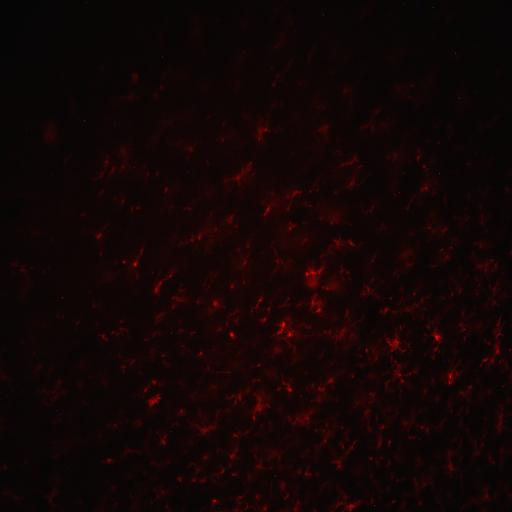microglia: (40, 380, 68, 406), (154, 275, 168, 295), (273, 254, 287, 272), (288, 185, 304, 200), (232, 170, 246, 186), (304, 268, 322, 280), (335, 325, 347, 342), (445, 456, 456, 474), (393, 361, 404, 377), (226, 213, 237, 227), (319, 124, 331, 136), (346, 178, 358, 188), (442, 254, 454, 264), (287, 381, 294, 397), (229, 328, 237, 342), (98, 332, 109, 342), (263, 203, 270, 216), (346, 503, 356, 512), (434, 332, 442, 342), (308, 280, 318, 288), (364, 408, 371, 419), (344, 307, 350, 319), (149, 397, 156, 407), (254, 463, 264, 470), (324, 328, 332, 336), (278, 326, 284, 336), (348, 239, 356, 246), (350, 332, 357, 340), (379, 436, 383, 450), (242, 258, 248, 267), (387, 440, 393, 448), (280, 320, 286, 327), (316, 307, 322, 314), (257, 297, 263, 304), (418, 423, 425, 429), (288, 332, 294, 338), (96, 233, 102, 239), (178, 408, 184, 414), (106, 458, 112, 464), (213, 300, 218, 307), (263, 316, 268, 323), (324, 438, 328, 446), (364, 347, 368, 355), (334, 239, 338, 247), (468, 382, 472, 390), (255, 403, 261, 408), (319, 387, 325, 392), (263, 506, 268, 512), (263, 127, 269, 132), (416, 155, 420, 162), (157, 396, 161, 403), (338, 460, 341, 469), (495, 350, 500, 355), (212, 498, 217, 503), (177, 477, 182, 482), (162, 441, 167, 446), (460, 391, 465, 396), (448, 372, 452, 378), (289, 225, 293, 231), (306, 414, 310, 420), (233, 434, 239, 438), (165, 186, 169, 192), (198, 236, 202, 242), (328, 378, 333, 382), (199, 351, 203, 356), (229, 454, 234, 458), (202, 428, 207, 432), (311, 301, 316, 305), (351, 444, 354, 450), (381, 424, 384, 430), (484, 358, 488, 362), (122, 260, 126, 264), (394, 340, 398, 344), (252, 416, 256, 420), (424, 186, 428, 190), (305, 272, 309, 276), (238, 396, 242, 400), (366, 287, 370, 291), (326, 287, 330, 291), (427, 428, 429, 436), (449, 380, 452, 385), (144, 388, 147, 393), (153, 380, 156, 385), (258, 136, 261, 141), (134, 262, 137, 266), (342, 446, 345, 450), (305, 472, 308, 476), (221, 470, 224, 474), (133, 166, 136, 170), (385, 308, 388, 312), (368, 458, 373, 460), (341, 426, 344, 429), (347, 439, 350, 442), (258, 364, 261, 367), (401, 379, 403, 383), (423, 165, 425, 168), (209, 426, 211, 429), (277, 388, 280, 390), (322, 286, 324, 289)
